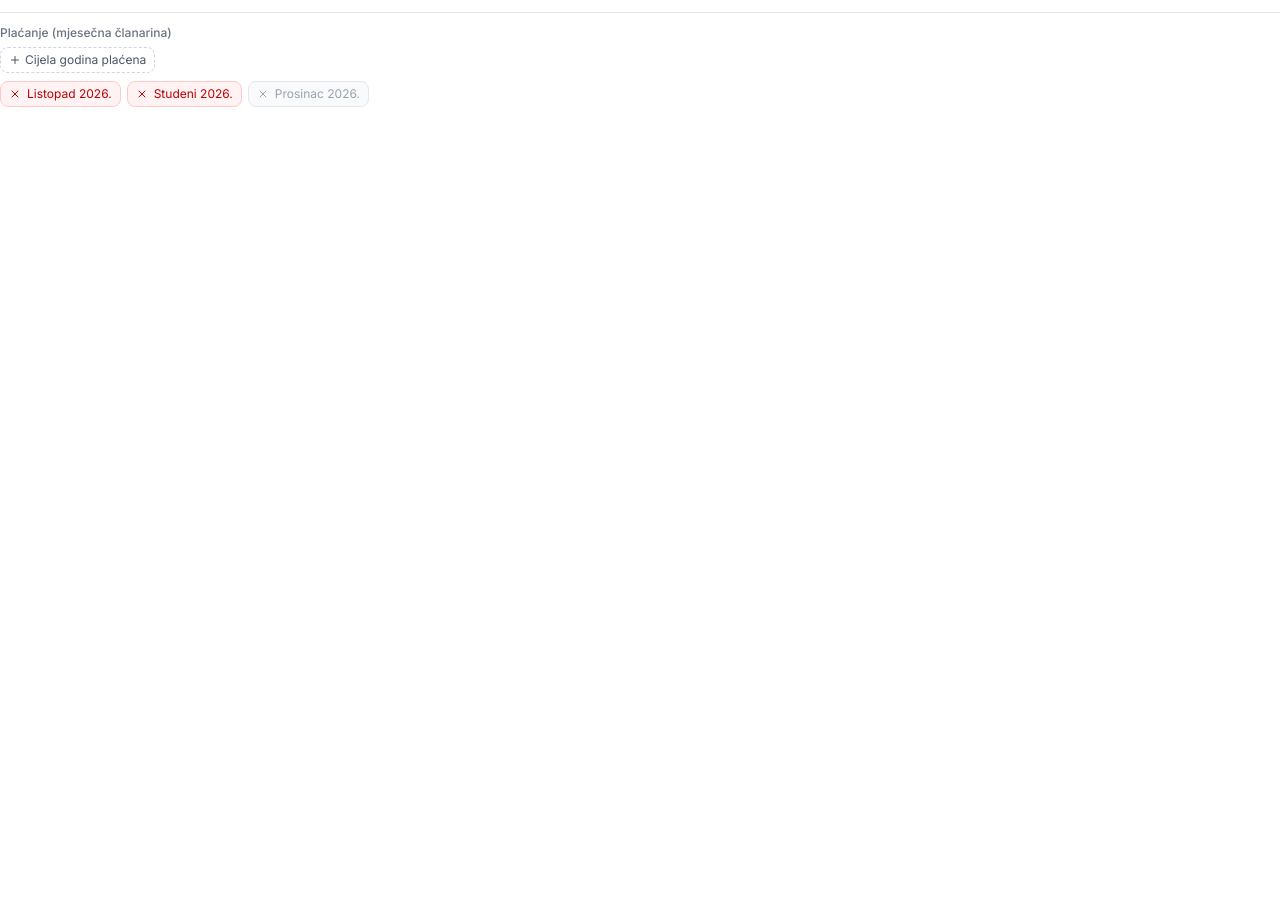
EnrollmentPaymentPanel — nothing is written on the first click › writes nothing when the question is dismissed
Click the button "Listopad 2026." at (60, 94), box x1=0 y1=81 x2=121 y2=107
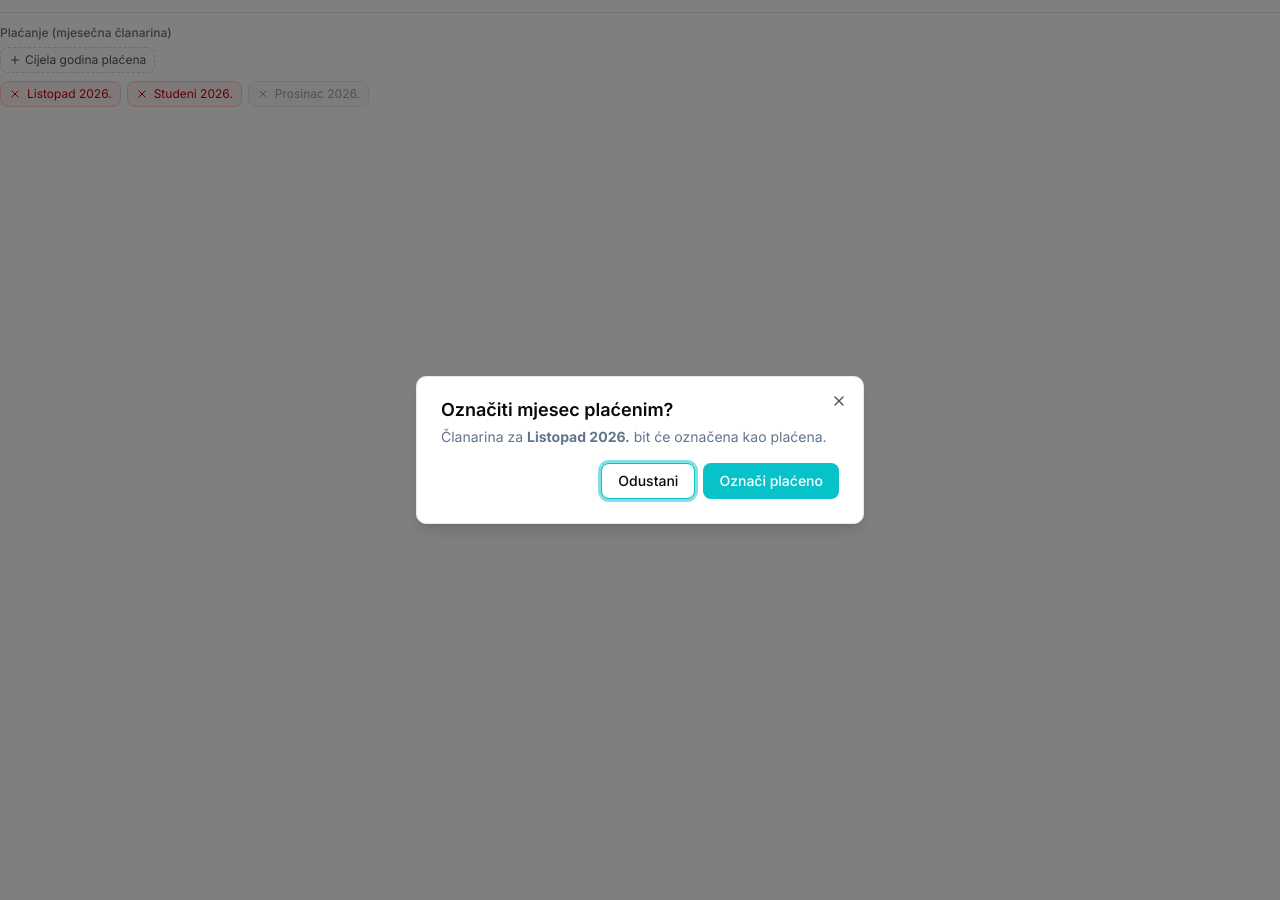
Click the button "Odustani" at (648, 481), box x1=601 y1=463 x2=695 y2=499
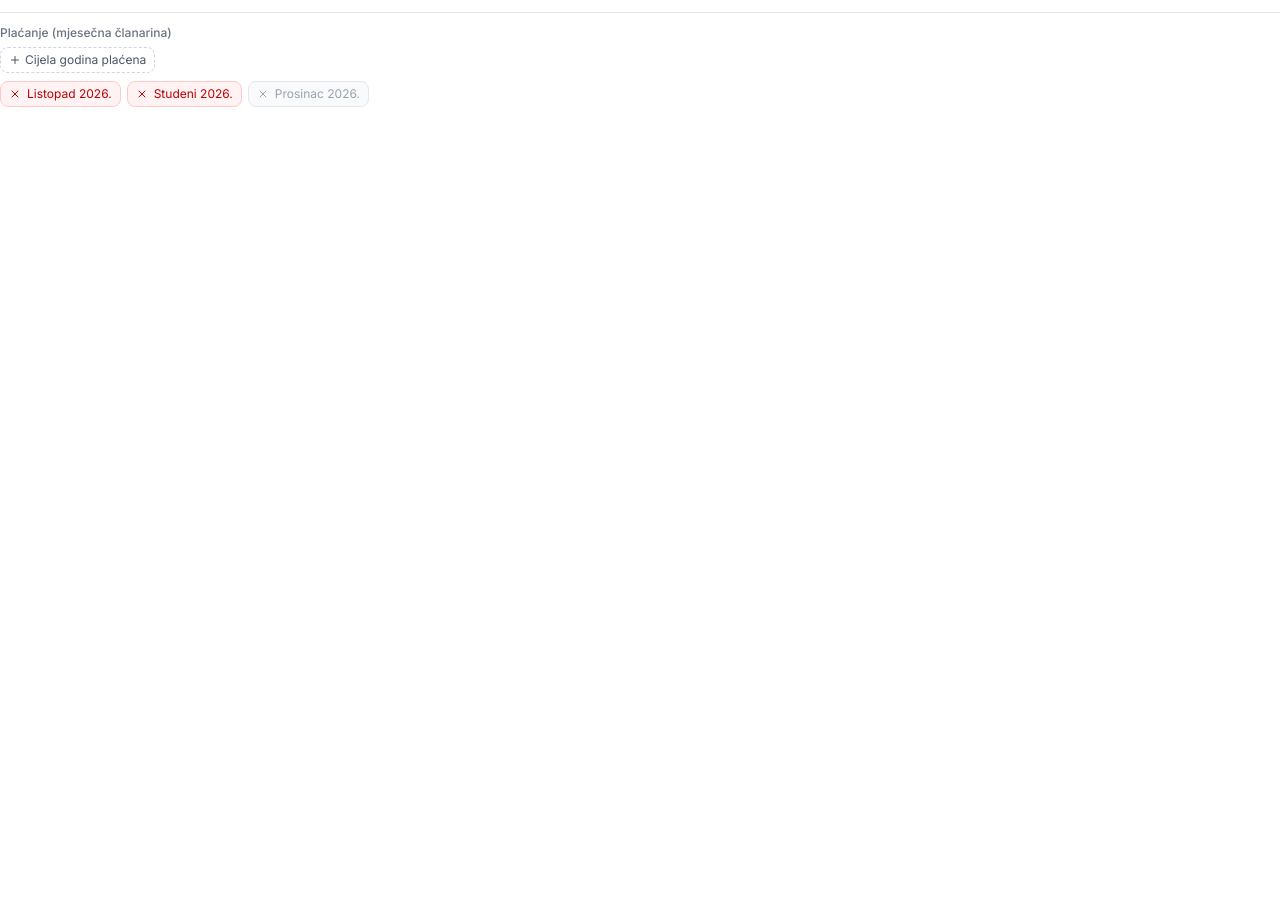
Now the heading "Označiti mjesec plaćenim?" is gone
